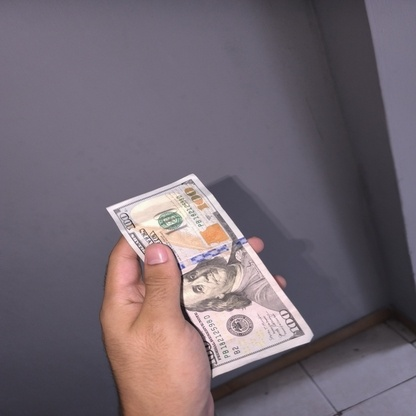one_hundred-front: (106, 170, 314, 378)
